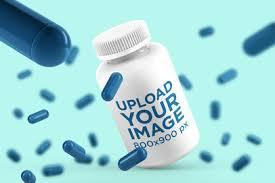jar: (72, 12, 205, 181)
